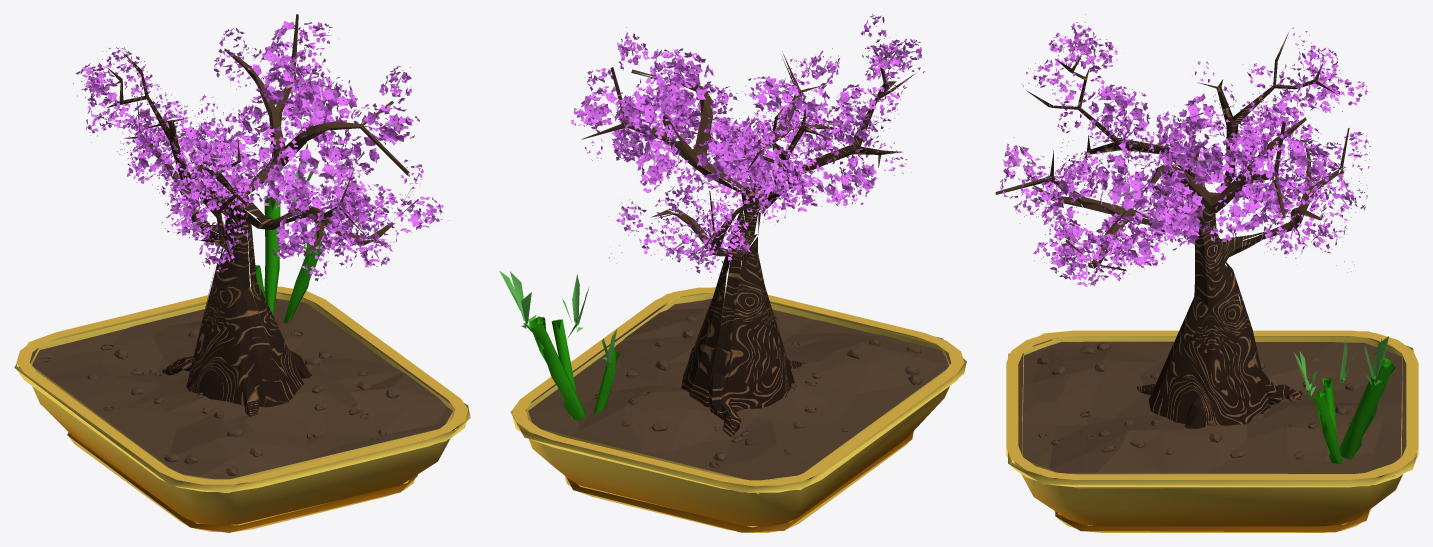
Rendered from zeNFTDec2_coll.glb.
3 views of the same model, side by side, from view 1: azimuth 30°, elevation 25°; view 2: azimuth 150°, elevation 25°; view 3: azimuth 270°, elevation 25° (orthographic).
Visible parts, largest first — view 1: Wenge_3d.001; view 2: Wenge_3d.001; view 3: Wenge_3d.001.
Boxes of the visible parts, box(x1,y1,x2,y2) form: Wenge_3d.001: box(14, 14, 470, 532); Wenge_3d.001: box(499, 14, 966, 532); Wenge_3d.001: box(995, 14, 1418, 532).
Size of what is drawn, in the model's own units: 1.8 by 2.39 by 2.14.
8 materials, 2 textured.
